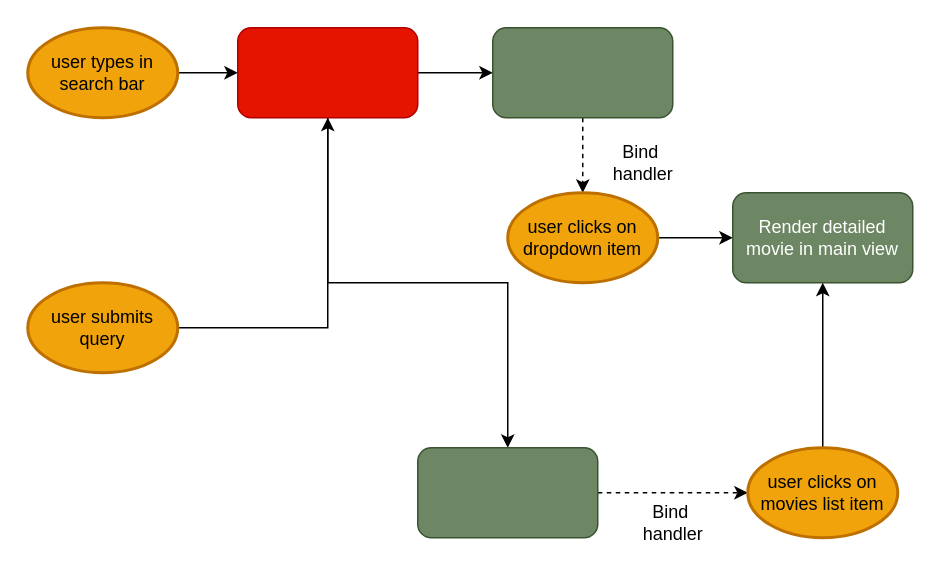
The diagram is 939 pixels wide and 578 high, and some of its shapes have lost their labels. Each missing label, with the box of its shape:
Fetch movies: (236, 26, 418, 118)
Render movies in main view: (416, 446, 598, 538)
Render movies in search dropdown: (491, 26, 673, 118)
